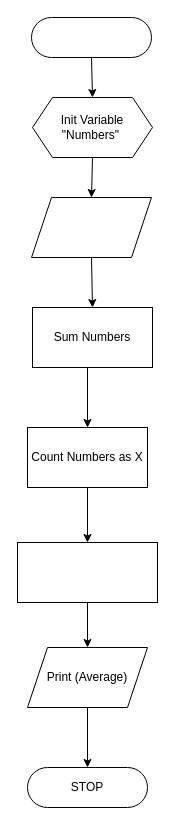
Some shapes in this 175 by 825 pixel diagram are drawn without their labels. Each missing label, with the box of its shape:
Average = Numbers / X: (16, 542, 158, 602)
Input Some Numbers: (30, 196, 152, 258)
START: (30, 16, 152, 58)
